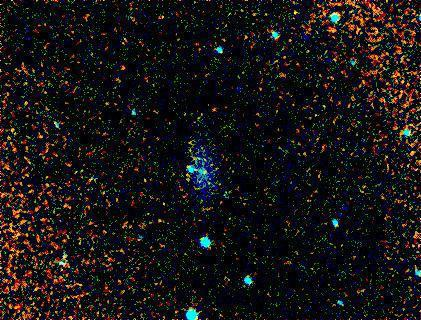star: (319, 18, 349, 48)
